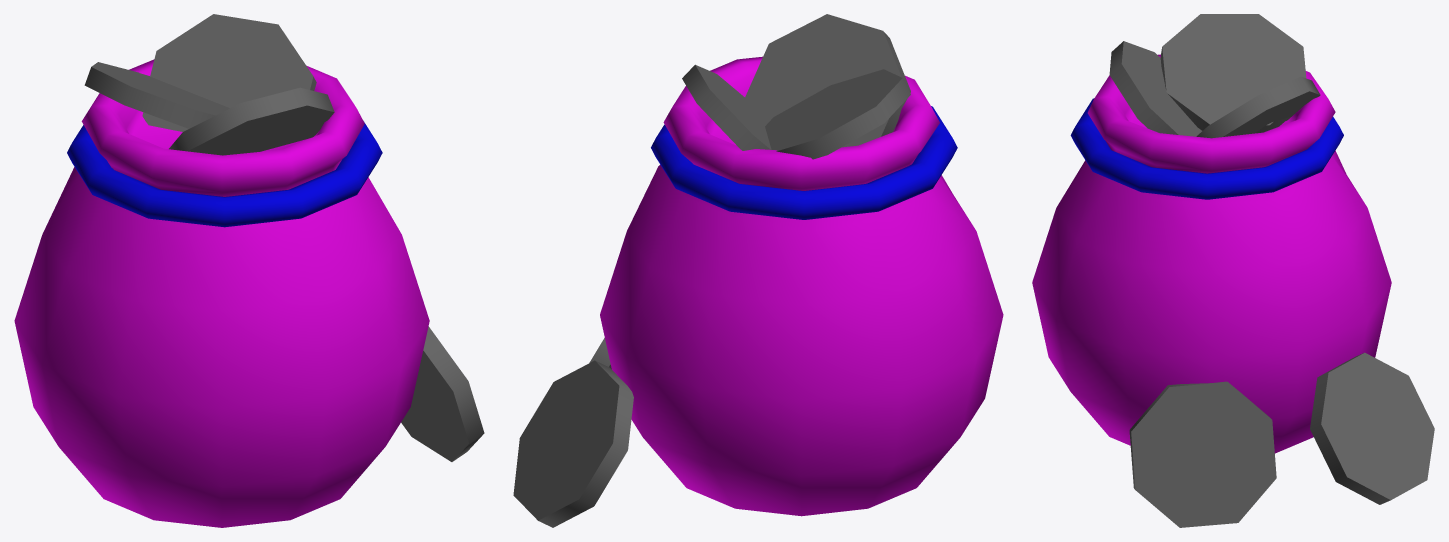
The model's file is prp_CoinsC.fbx.
3 renders of one model, left to right at view 1: azimuth 30°, elevation 25°; view 2: azimuth 150°, elevation 25°; view 3: azimuth 270°, elevation 25°, orthographic. The views are drawn at different scales.
Visible parts, largest first — view 1: prp_CoinsC; view 2: prp_CoinsC; view 3: prp_CoinsC.
Boxes of the visible parts, x1,y1,x2,y2 form: prp_CoinsC: (14,14,484,527); prp_CoinsC: (513,14,1003,527); prp_CoinsC: (1032,14,1434,527).
Size of the model in its own units: 0.4158 by 0.412 by 0.4337.
